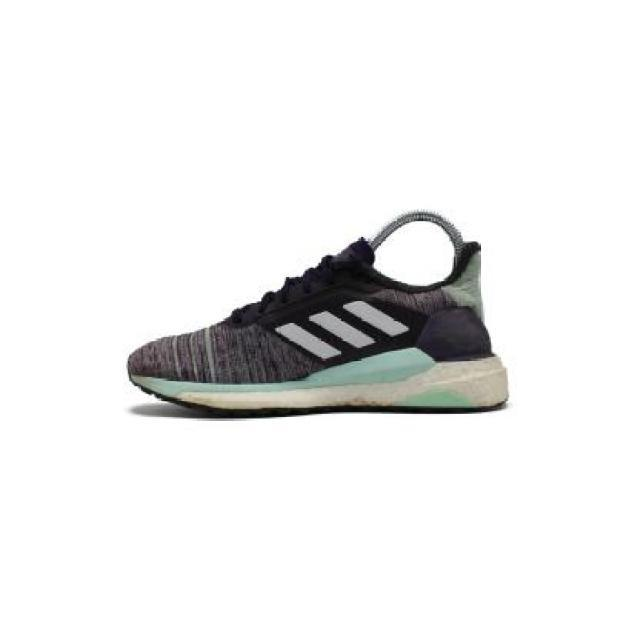Adidas: (269, 292, 411, 370)
